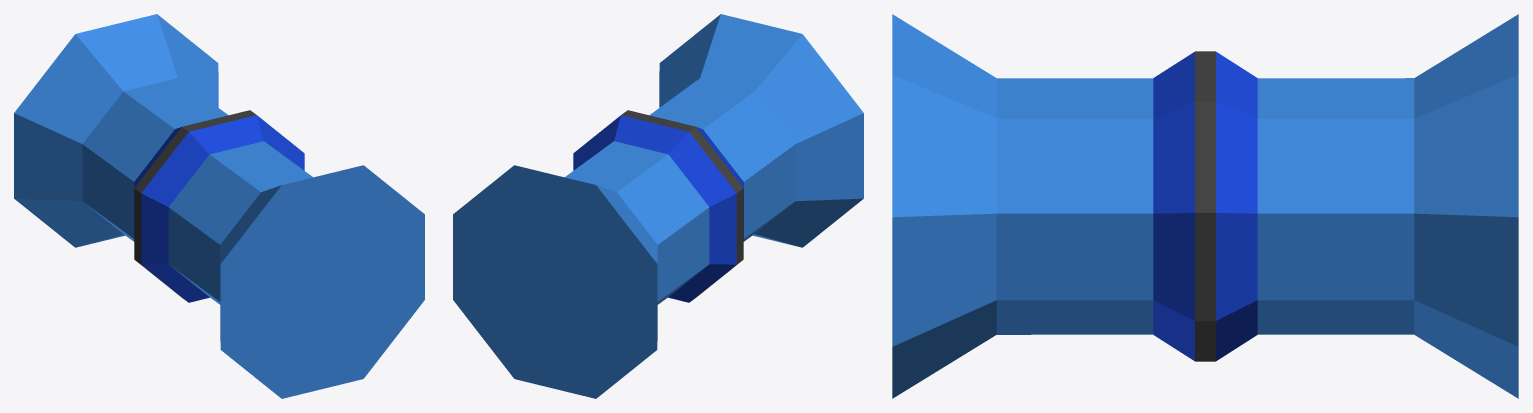
Rendered from Neck.FBX.
The picture shows the model from 3 angles, left to right: view 1: azimuth 30°, elevation 25°; view 2: azimuth 150°, elevation 25°; view 3: azimuth 270°, elevation 25°; orthographic projection. The views are drawn at different scales.
Visible parts, largest first — view 1: VIFS001, VIFS003, VIFS002; view 2: VIFS001, VIFS003, VIFS002; view 3: VIFS001, VIFS003, VIFS002.
Part boxes in pixels (left/top/right/bottom): VIFS001: left=14, top=14, right=424, bottom=398; VIFS003: left=134, top=115, right=304, bottom=302; VIFS002: left=134, top=110, right=256, bottom=300; VIFS001: left=453, top=14, right=863, bottom=398; VIFS003: left=573, top=115, right=743, bottom=302; VIFS002: left=621, top=110, right=743, bottom=300; VIFS001: left=892, top=14, right=1518, bottom=398; VIFS003: left=1153, top=52, right=1257, bottom=360; VIFS002: left=1195, top=51, right=1215, bottom=361.
Bounding box in the file's own units: 2.4 × 2.4 × 4.2.
